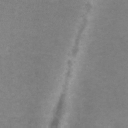finishing roll printing: (50, 60, 74, 128), (70, 4, 92, 59)
